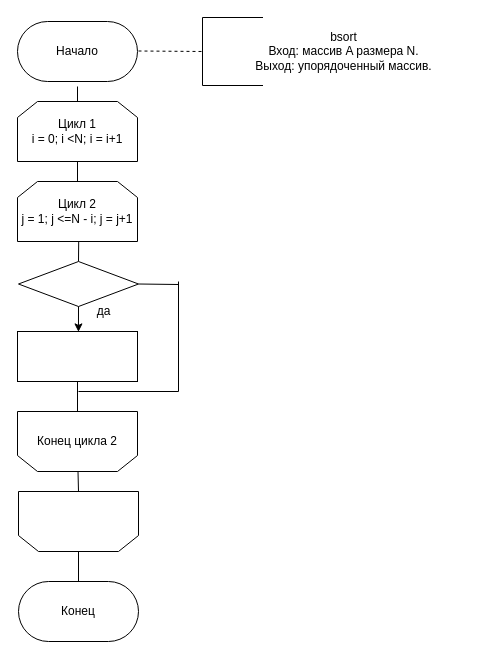
The diagram is 486 pixels wide and 659 high, and some of its shapes have lost their labels. The box of each missing label's shape, as (x1, y1, x2, y2) in pixels:
A[j] > A[j + 1]?: (18, 260, 138, 306)
t =A[j] A[j] = A[j + 1] A[j+1] = t: (16, 330, 138, 382)
Конец цикла 1: (18, 490, 138, 552)
